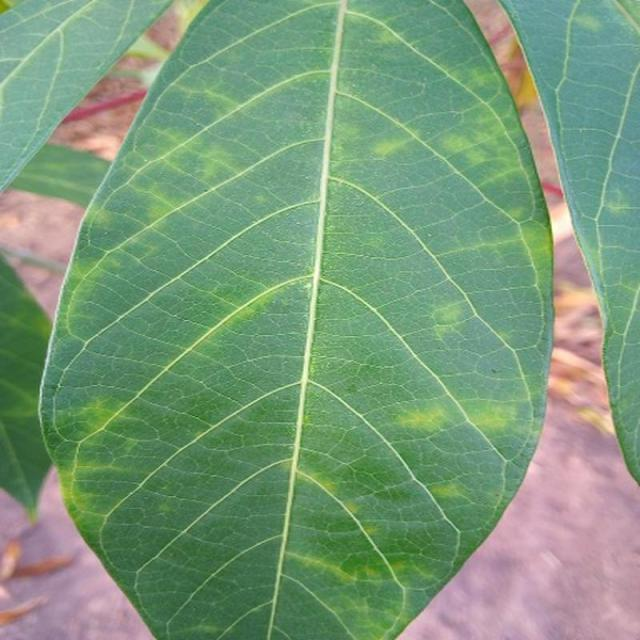cassava leaf: (37, 0, 556, 638), (496, 0, 639, 487)
